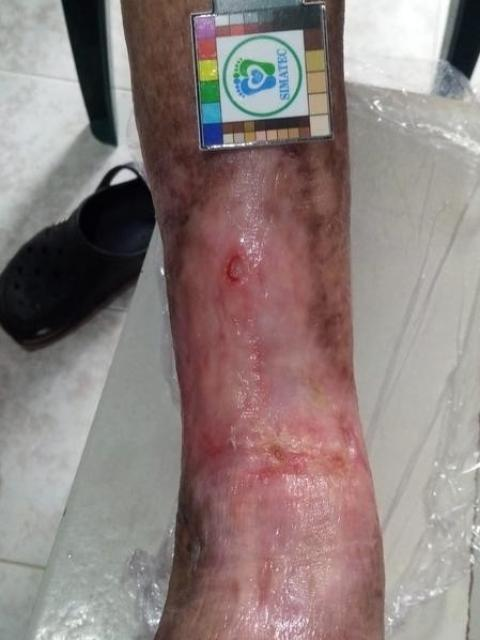wound: (251, 420, 363, 480), (225, 252, 250, 284)
